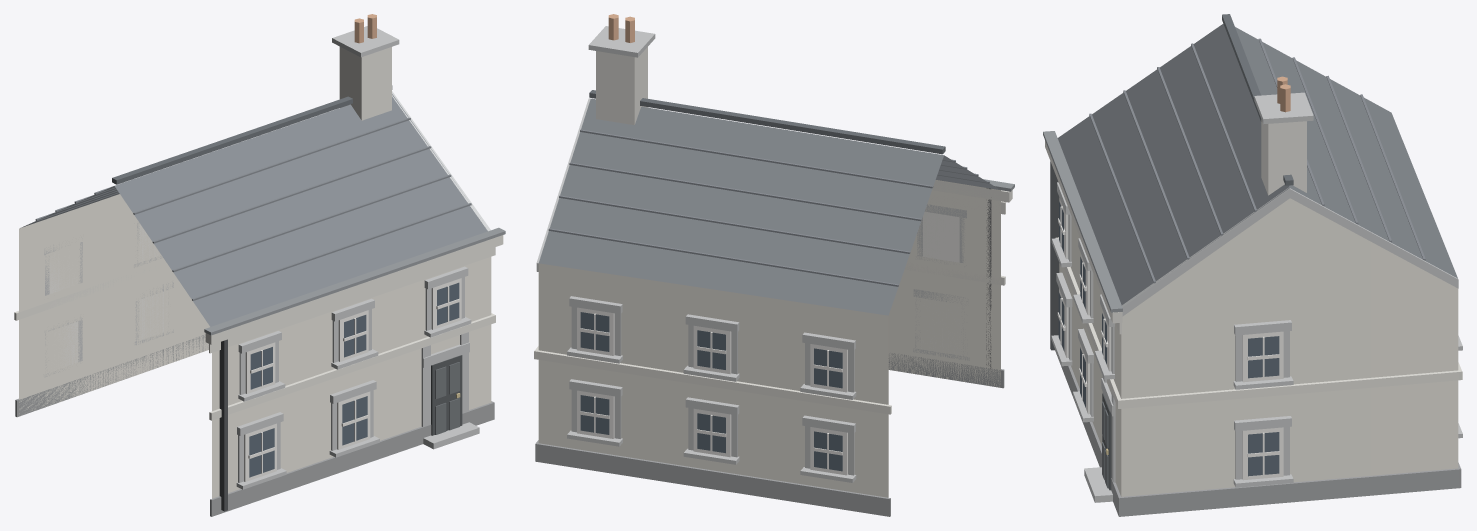
The picture shows the model from 3 angles, left to right: view 1: azimuth 30°, elevation 25°; view 2: azimuth 150°, elevation 25°; view 3: azimuth 270°, elevation 25°; orthographic projection. The views are drawn at different scales.
Parts seen in each view (by area): view 1: harl_cream, slate, stone_band, string, plinth, frame, slate_lt, chim_render, lead, slate_dk, pipe, door_dark_p (+6 smaller); view 2: harl_cream, slate, stone_band, plinth, frame, string, slate_lt, chim_render, slate_dk, window_glass_009, window_glass_008, window_glass_010 (+4 smaller); view 3: harl_cream, slate, stone_band, plinth, string, slate_lt, frame, chim_render, lead, pipe, window_glass_006, window_glass_007 (+2 smaller).
Boxes of the visible parts, bbox=[...] form: harl_cream: bbox=[19, 194, 491, 498]; slate: bbox=[21, 94, 487, 326]; stone_band: bbox=[43, 26, 490, 489]; string: bbox=[14, 235, 503, 420]; plinth: bbox=[15, 335, 494, 516]; frame: bbox=[49, 224, 461, 481]; slate_lt: bbox=[35, 117, 471, 300]; chim_render: bbox=[339, 47, 391, 120]; lead: bbox=[204, 227, 505, 335]; slate_dk: bbox=[112, 85, 392, 184]; pipe: bbox=[219, 339, 227, 511]; door_dark_p: bbox=[435, 362, 459, 434]; harl_cream: bbox=[538, 180, 1000, 497]; slate: bbox=[539, 98, 1000, 315]; stone_band: bbox=[536, 26, 969, 482]; plinth: bbox=[535, 353, 1004, 516]; frame: bbox=[577, 211, 961, 475]; string: bbox=[534, 180, 1012, 414]; slate_lt: bbox=[548, 129, 989, 286]; chim_render: bbox=[596, 47, 647, 125]; slate_dk: bbox=[589, 90, 945, 154]; window_glass_009: bbox=[580, 312, 609, 351]; window_glass_008: bbox=[580, 395, 609, 434]; window_glass_010: bbox=[697, 413, 725, 453]; harl_cream: bbox=[1059, 198, 1458, 496]; slate: bbox=[1057, 23, 1457, 305]; stone_band: bbox=[1051, 92, 1462, 502]; plinth: bbox=[1055, 350, 1461, 516]; string: bbox=[1045, 141, 1462, 408]; slate_lt: bbox=[1089, 38, 1425, 283]; frame: bbox=[1057, 198, 1283, 480]; chim_render: bbox=[1261, 119, 1306, 195]; lead: bbox=[1043, 131, 1122, 312]; pipe: bbox=[1050, 161, 1059, 350]; window_glass_006: bbox=[1248, 432, 1279, 476]; window_glass_007: bbox=[1248, 336, 1279, 378].
Bounding box in the file's own units: 10.26 × 9.69 × 9.13.
